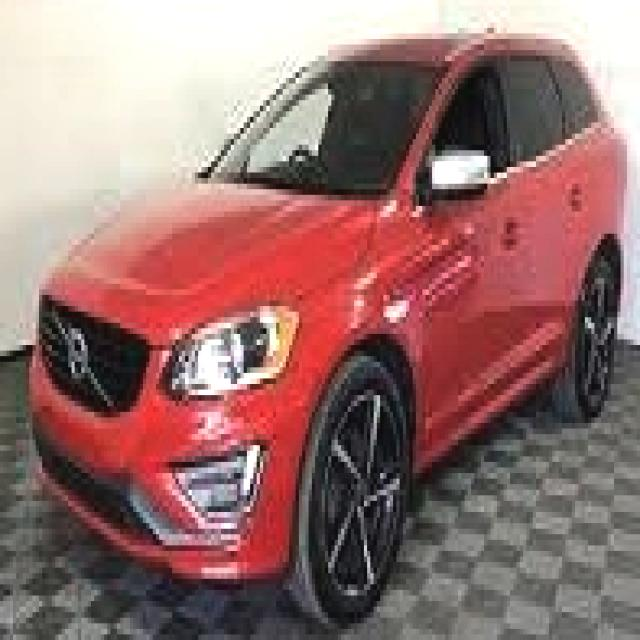red: (21, 0, 627, 580)
